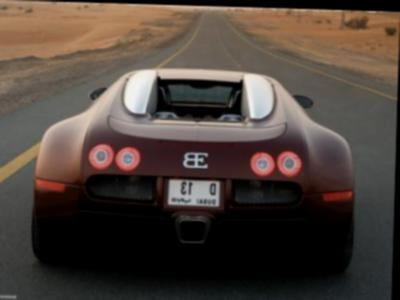License_Plate: (167, 178, 221, 207)
